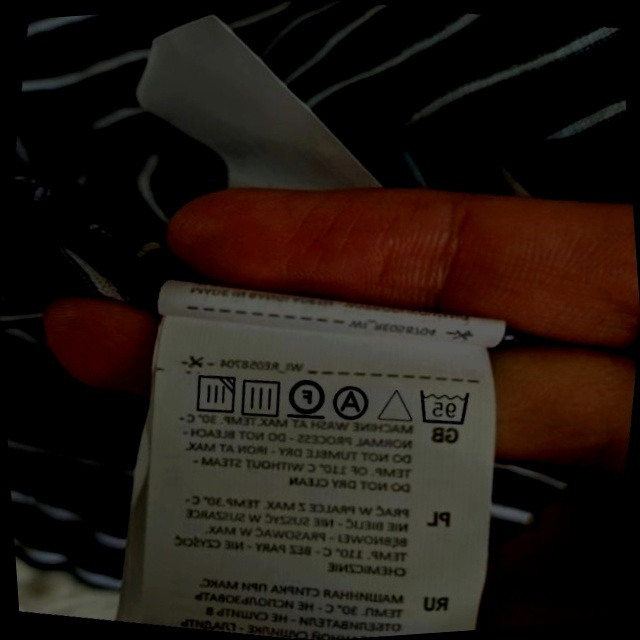95C: (411, 380, 476, 432)
bleach: (374, 380, 418, 429)
drip_dry: (234, 371, 287, 423)
drip_dry_in_shade: (186, 367, 241, 421)
dry_clean: (329, 380, 375, 425)
dry_clean_petrol_only: (282, 370, 331, 425)
